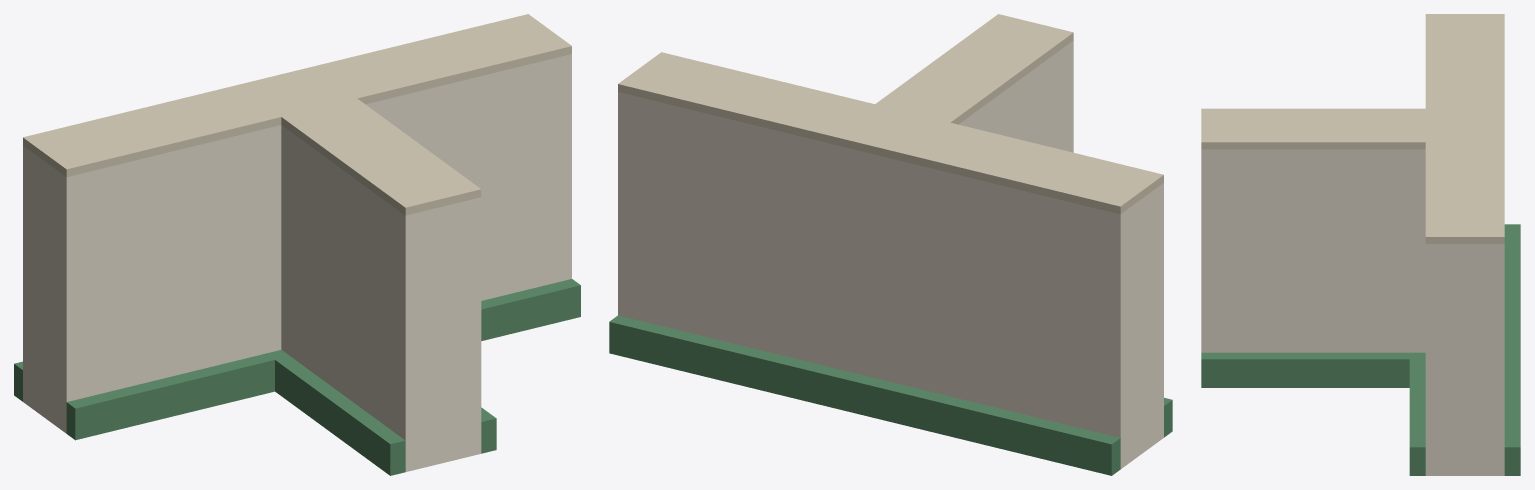
File: partition-low-tee.glb
The picture shows the model from 3 angles, left to right: view 1: azimuth 30°, elevation 25°; view 2: azimuth 150°, elevation 25°; view 3: azimuth 270°, elevation 25°; orthographic projection. The views are drawn at different scales.
Parts seen in each view (by area): view 1: partition-low-tee; view 2: partition-low-tee; view 3: partition-low-tee.
Boxes of the visible parts, x1,y1,x2,y2 form: partition-low-tee: (14,14,580,475); partition-low-tee: (609,14,1172,475); partition-low-tee: (1201,14,1520,475).
Size of the model in its own units: 1 by 0.5 by 0.605.
1 material, 1 textured.
